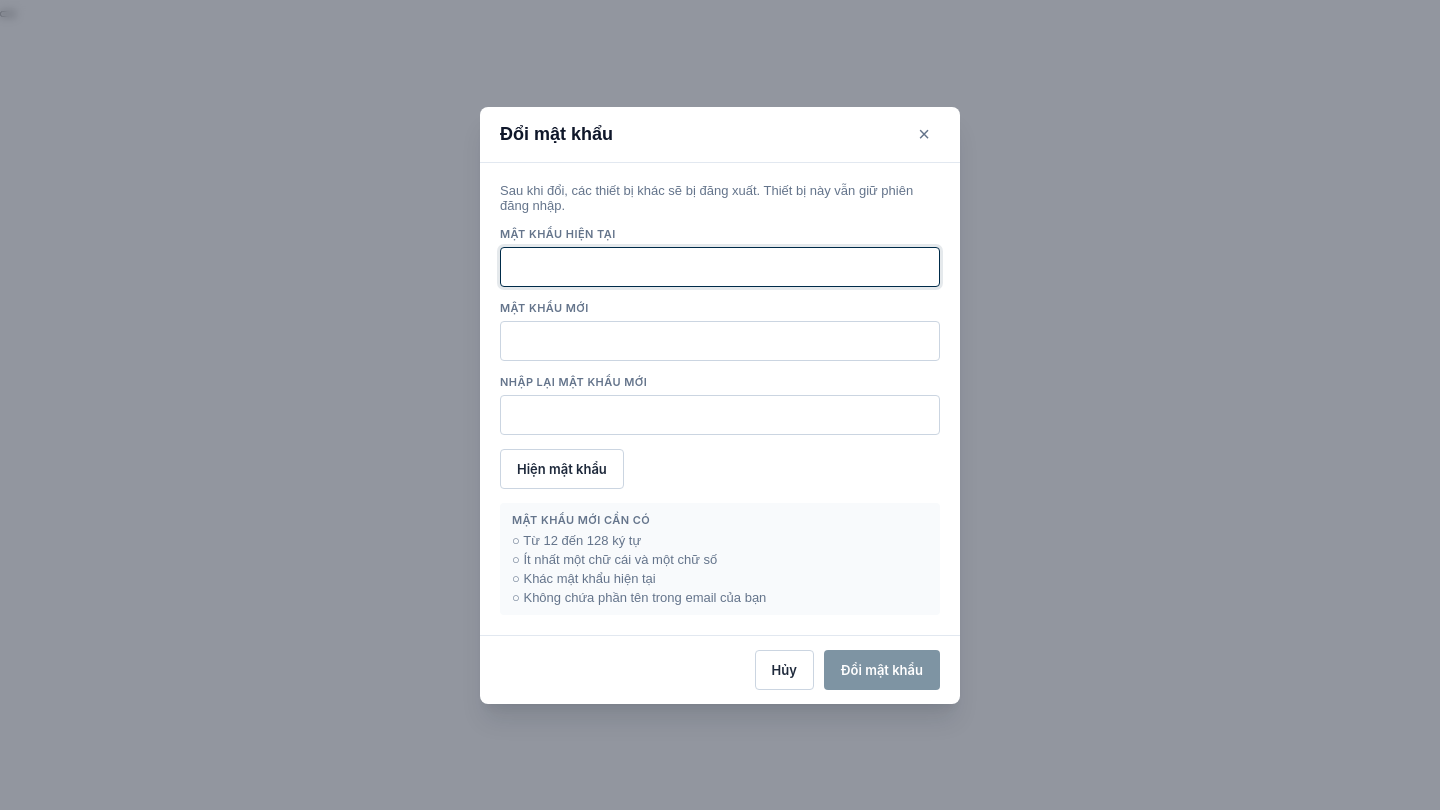
ChangePasswordDialogComponent › stays open with the wrong-current-password message and keeps the typed values
Type "wrong-Current-1" into the password field with id "current-password" at (720, 266), box [500,246,940,286]
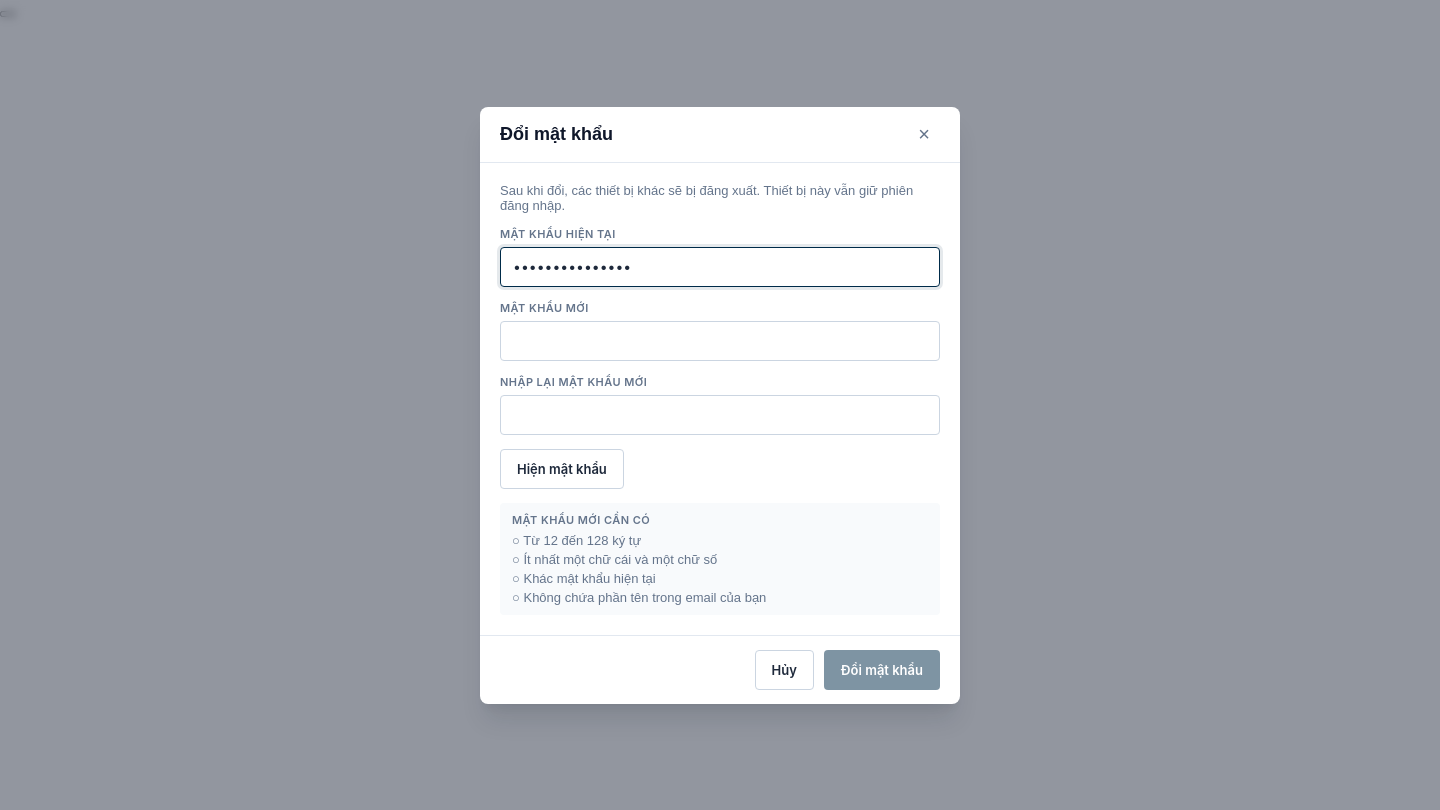
Type "Brand-New-Password-2" into the password field with id "new-password" at (720, 340), box [500,320,940,360]
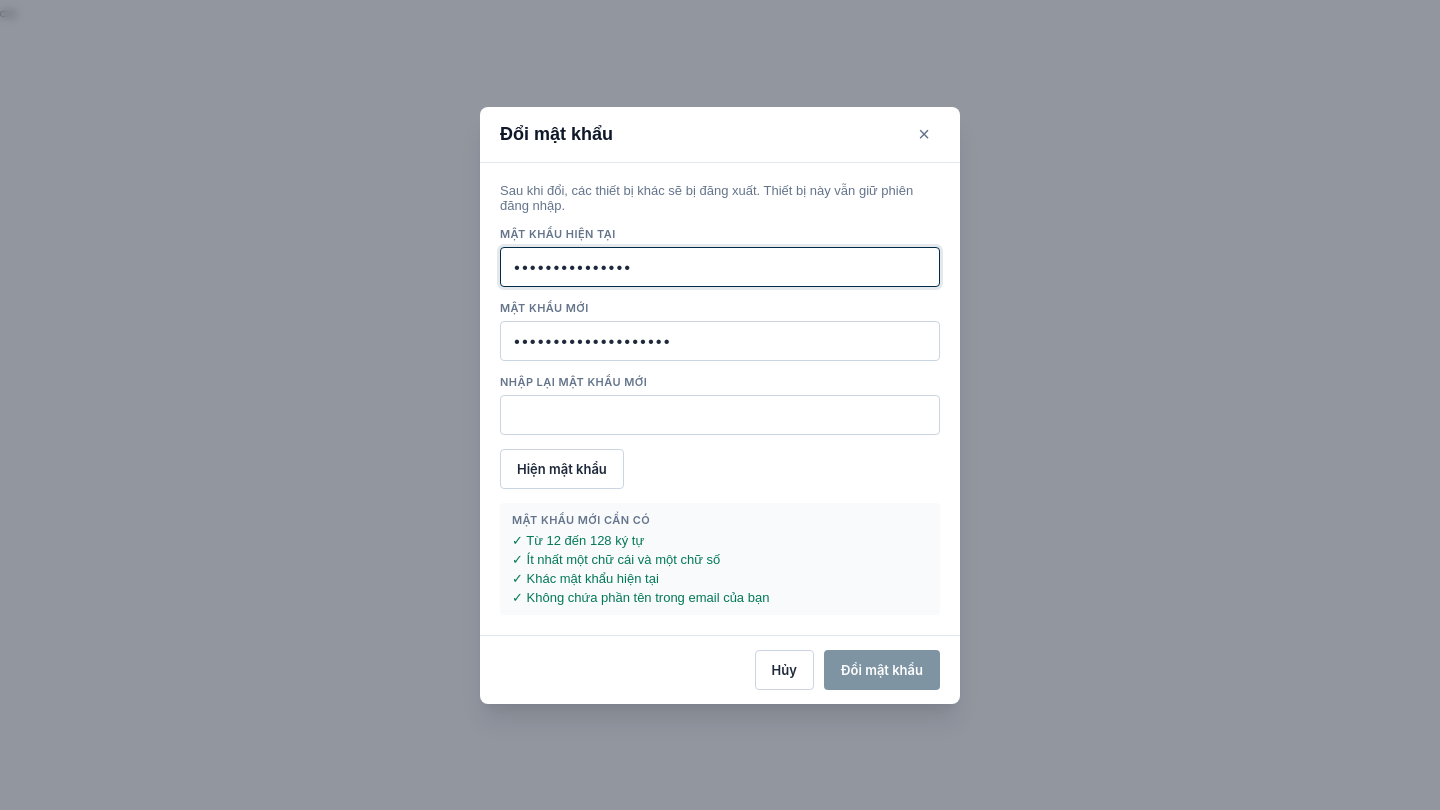
Type "Brand-New-Password-2" into the password field with id "confirm-password" at (720, 414), box [500,394,940,434]
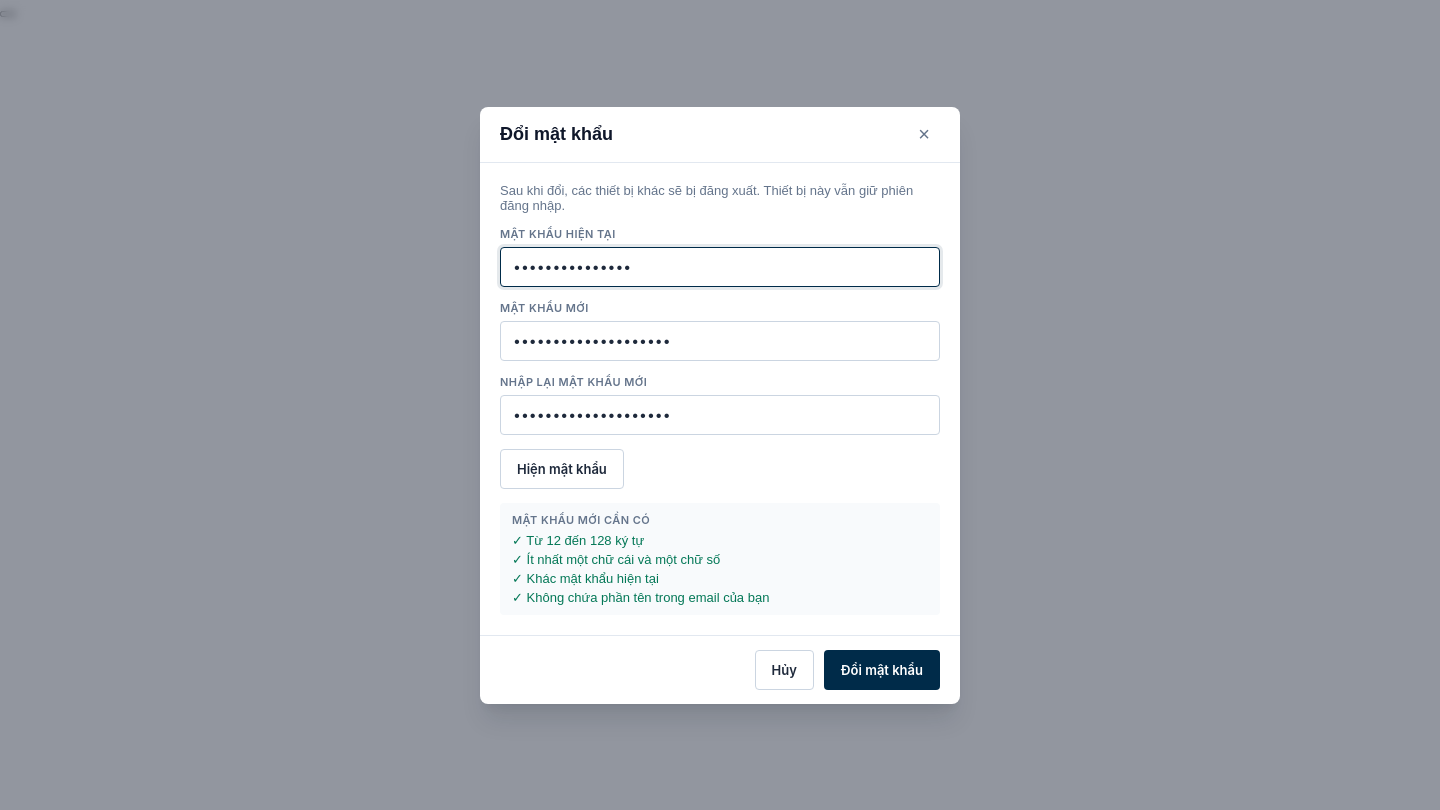
Click the submit button at (882, 670), box [824,650,940,690]
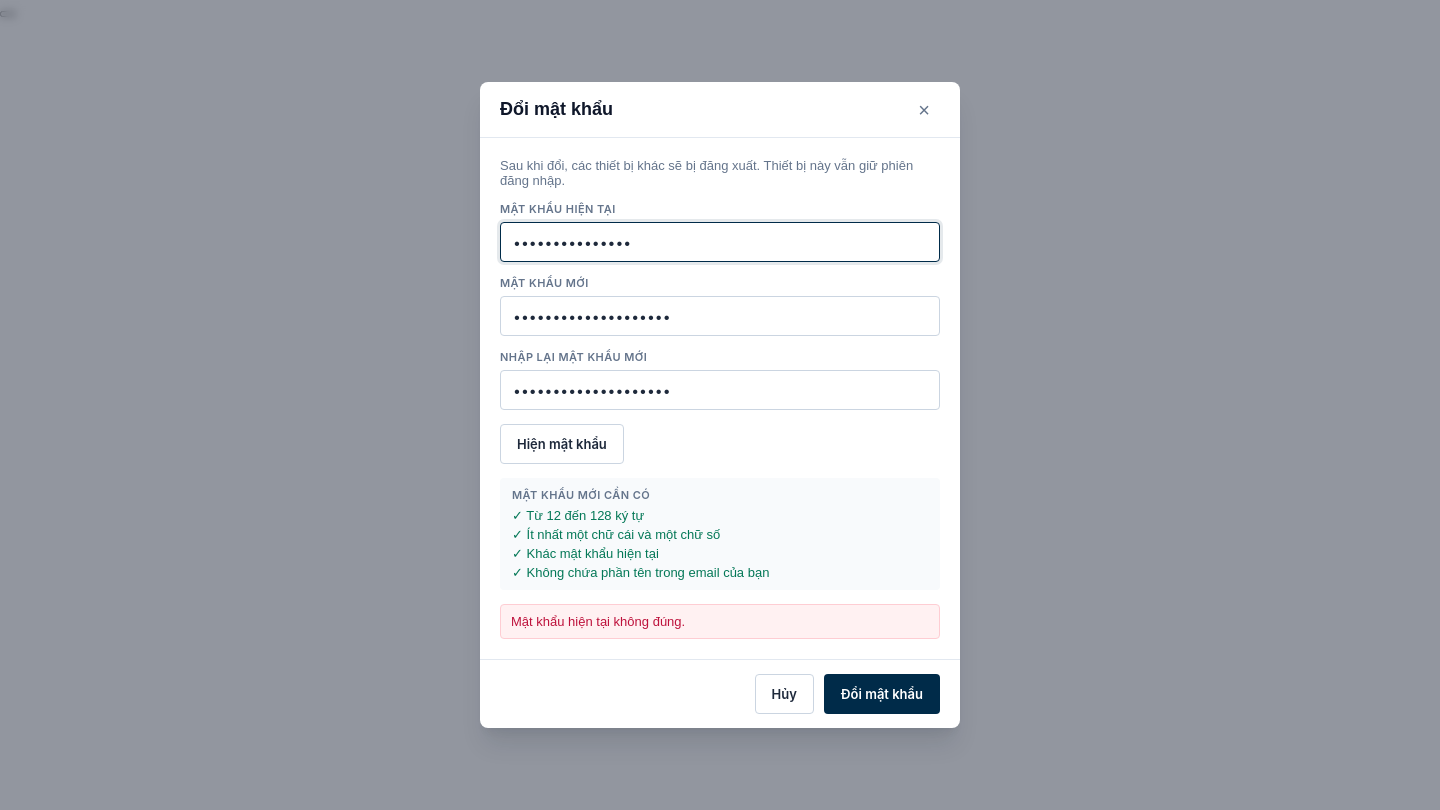
Check: the message with class "form-message" shows "Mật khẩu hiện tại không đúng", box [511,614,685,629]
